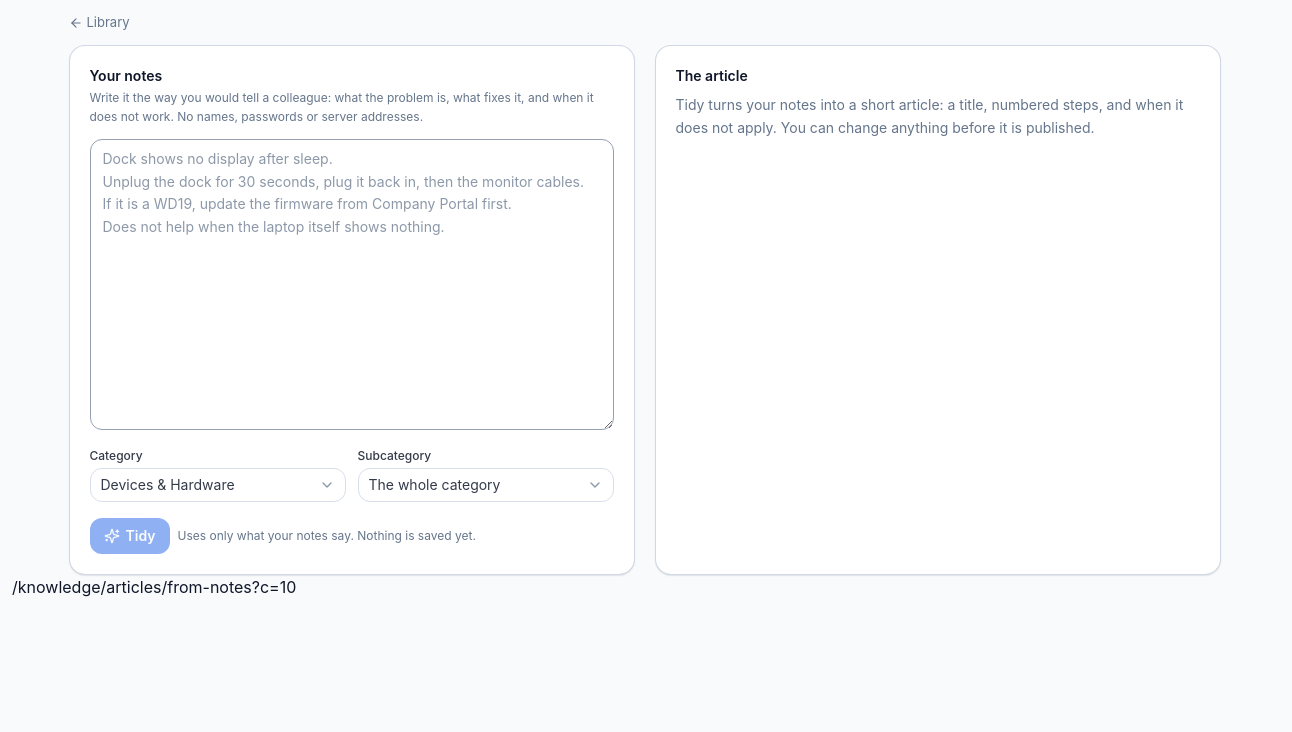
Scenario: NotesToArticle › someone who may only propose sends it to a person with the skill
The image size is (1292, 732).
Replace the text in the text box named "What you know" with "Dock shows no display after sleep. Unplug the dock for 30 seconds, then plug it back in.": (352, 284) x1=90 y1=139 x2=614 y2=430
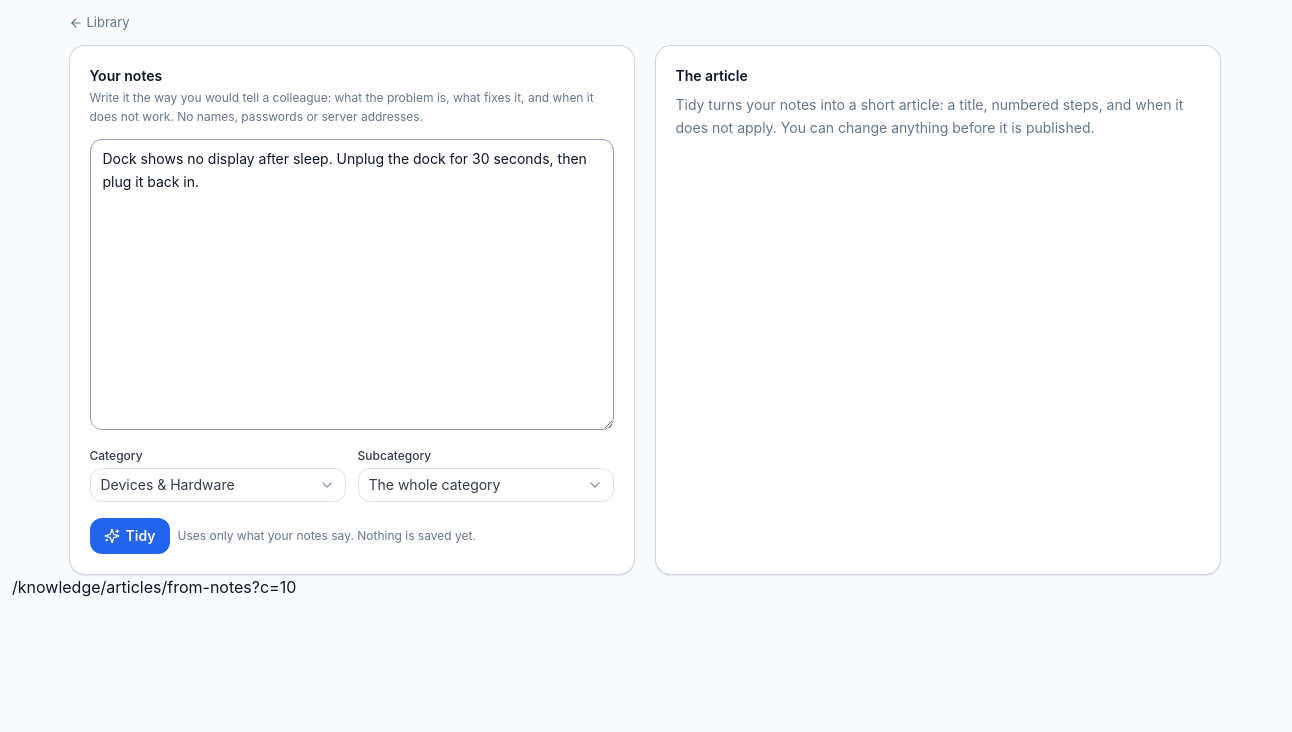
Click the button "Tidy": (130, 536) x1=90 y1=518 x2=170 y2=554
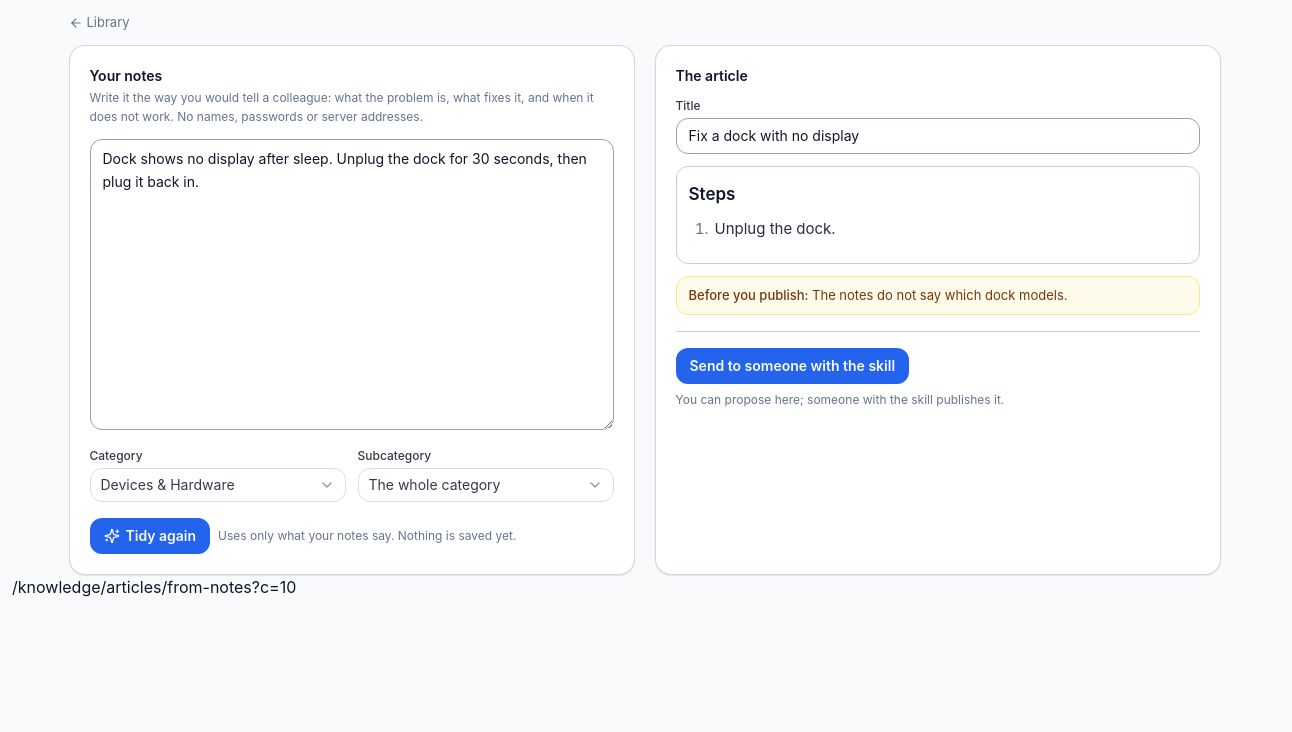
Check: the button with test id "notes-save" reads "Send to someone with the skill"
Click the button with test id "notes-save": (792, 366) x1=676 y1=348 x2=909 y2=384
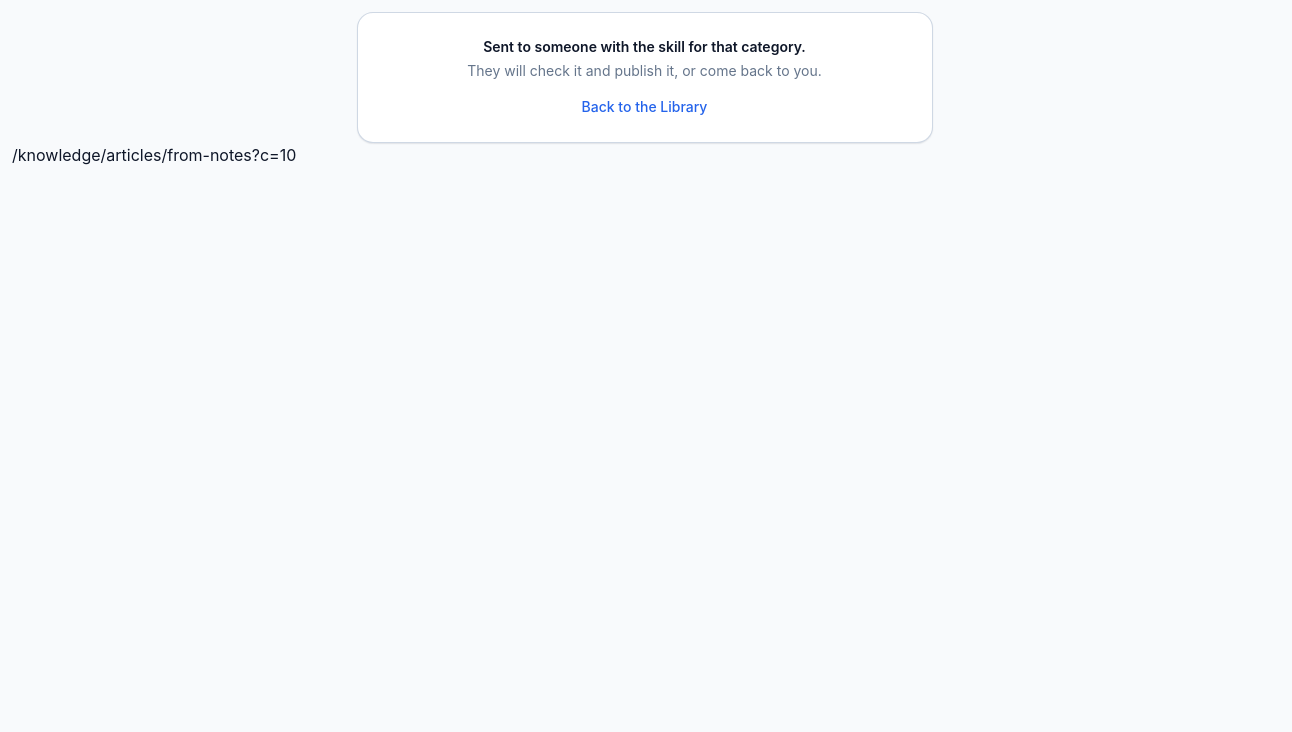
Check: the element with test id "notes-sent" is shown, box x1=356 y1=12 x2=932 y2=143
